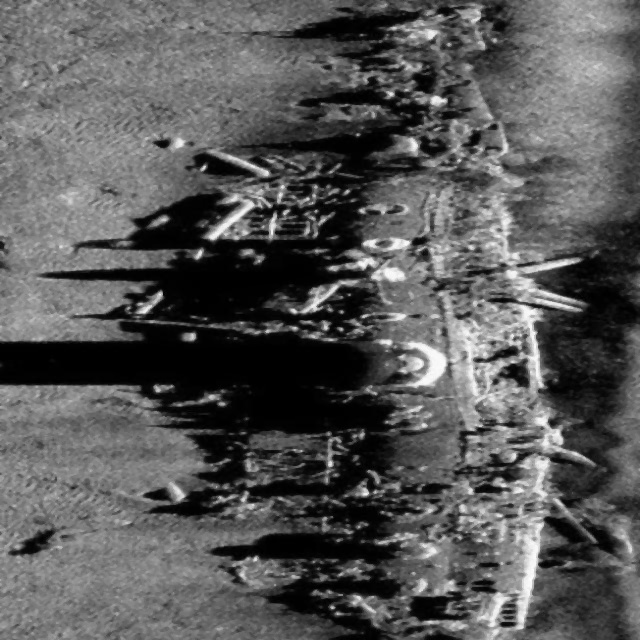Ship: (63, 0, 614, 640)
